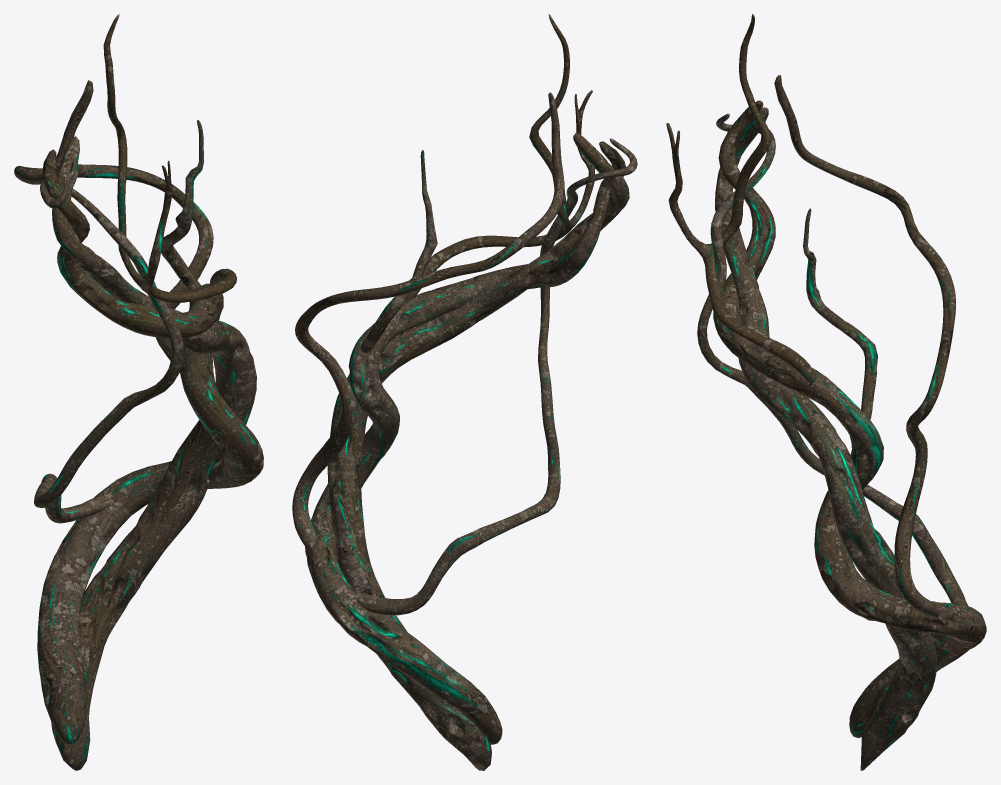
File: SM_BigTree006_02.fbx
3 renders of one model, left to right at view 1: azimuth 30°, elevation 25°; view 2: azimuth 150°, elevation 25°; view 3: azimuth 270°, elevation 25°, orthographic. The views are drawn at different scales.
Parts seen in each view (by area): view 1: SM_BigTree006_02; view 2: SM_BigTree006_02; view 3: SM_BigTree006_02.
Part boxes in pixels (<box>): SM_BigTree006_02: <box>14,14,263,770</box>; SM_BigTree006_02: <box>292,14,637,770</box>; SM_BigTree006_02: <box>666,14,986,770</box>.
Bounding box in the file's own units: 9556 × 25932 × 10059.
